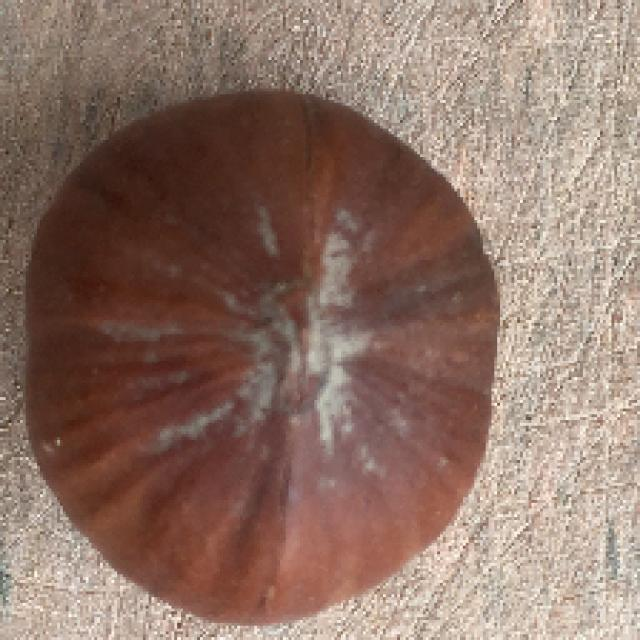qualityHazelnut: (18, 86, 502, 629)
